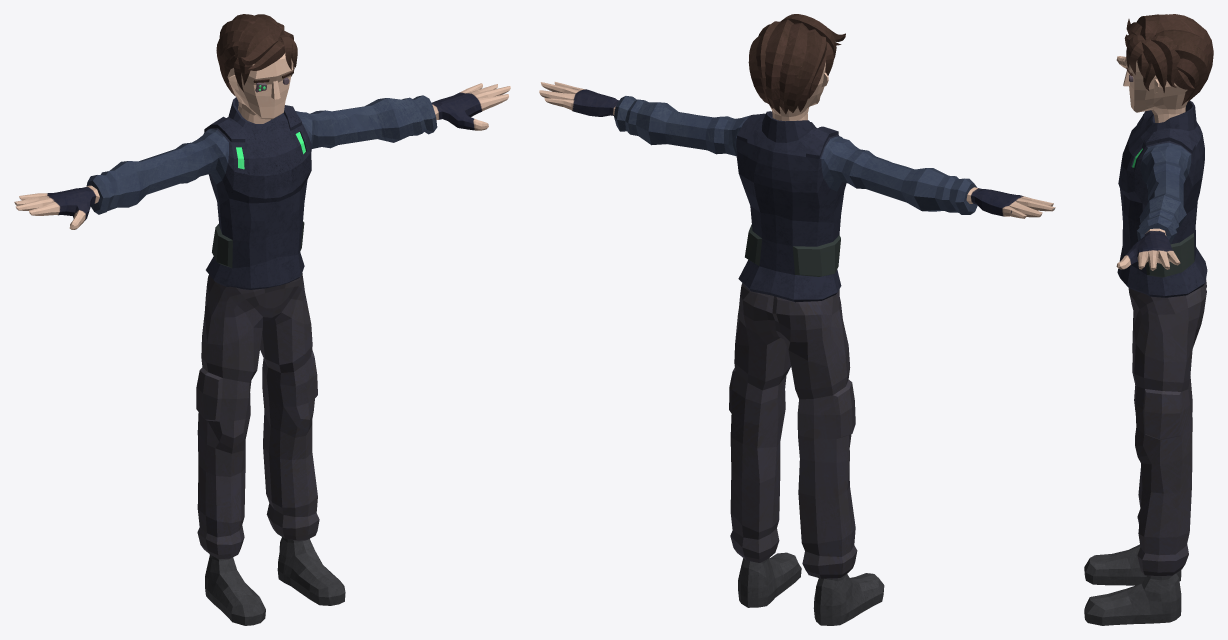
Rendered from Cyberpunk character3.fbx.
3 renders of one model, left to right at view 1: azimuth 30°, elevation 25°; view 2: azimuth 150°, elevation 25°; view 3: azimuth 270°, elevation 25°, orthographic. The views are drawn at different scales.
Parts seen in each view (by area): view 1: Cyberpunk_characters3; view 2: Cyberpunk_characters3; view 3: Cyberpunk_characters3.
Boxes of the visible parts, left/top/right/bottom form: Cyberpunk_characters3: left=14, top=14, right=510, bottom=625; Cyberpunk_characters3: left=539, top=14, right=1055, bottom=625; Cyberpunk_characters3: left=1084, top=14, right=1213, bottom=625.
Size of the model in its own units: 168 by 183 by 37.16.
